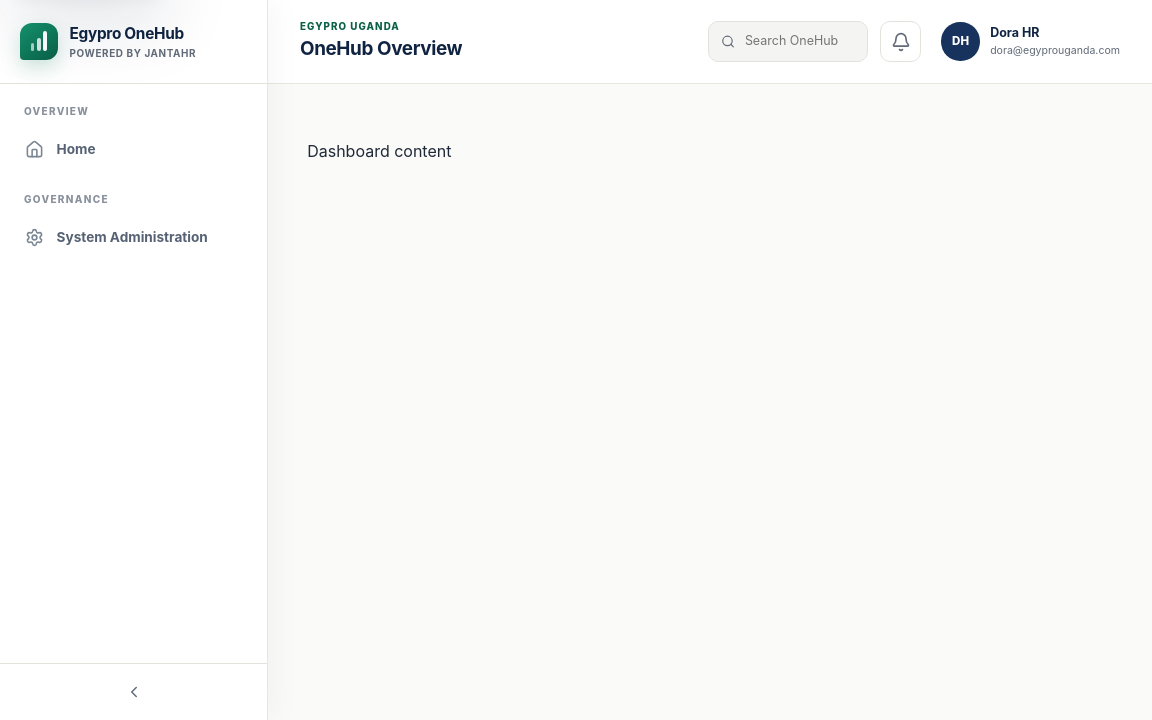
it: AppShell › lets HR open System Administration when effective access includes it
The image size is (1152, 720).
Click the link "System Administration".
click(116, 237)  # box [25,228,208,247]
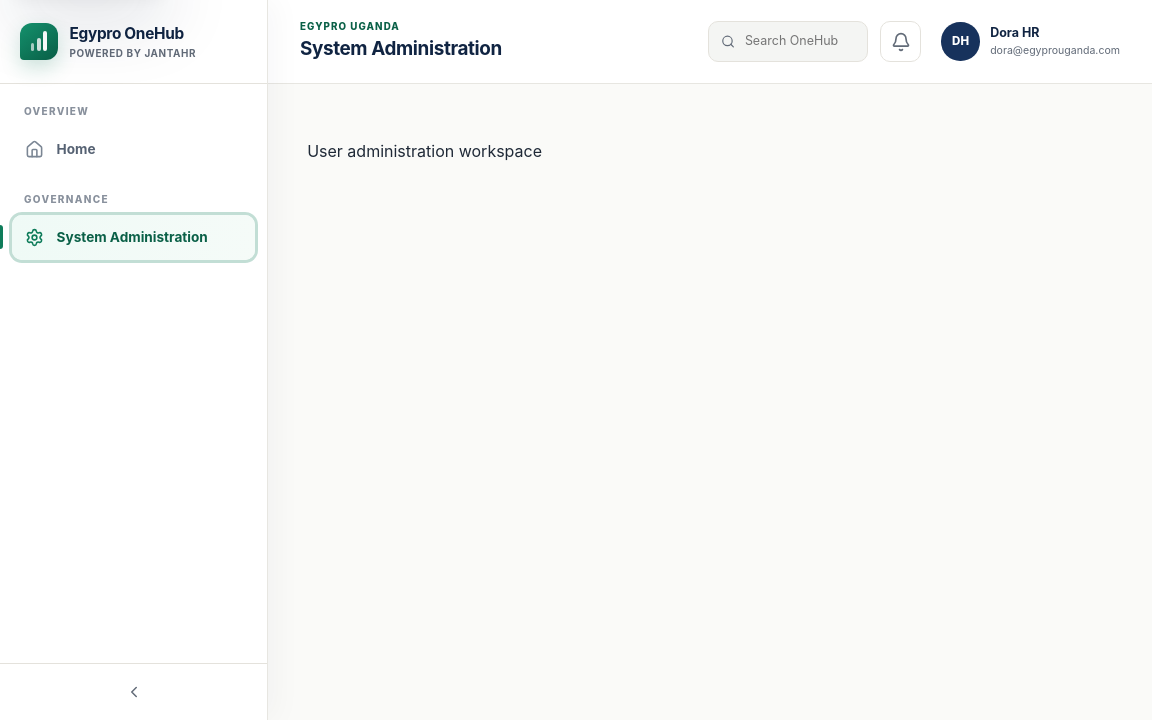
Expected: the text "User administration workspace" is shown, [307,141,542,161]
